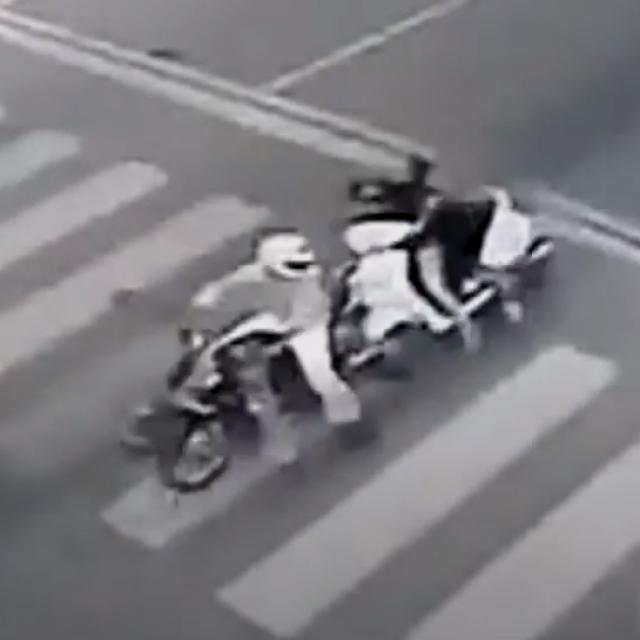accident: (123, 155, 551, 489)
